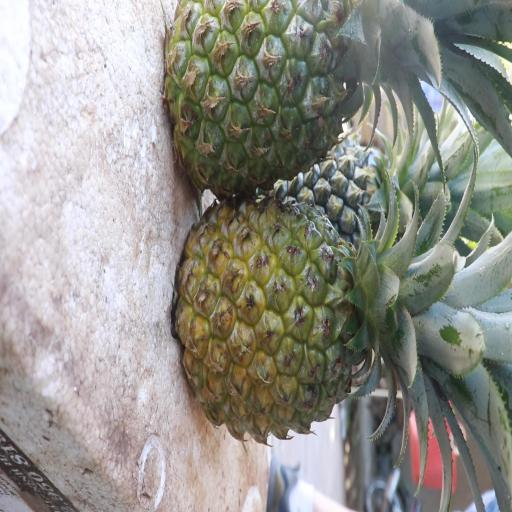------------------------------: (166, 0, 400, 207)
Pineapple - v8 v1: (178, 208, 416, 448)
